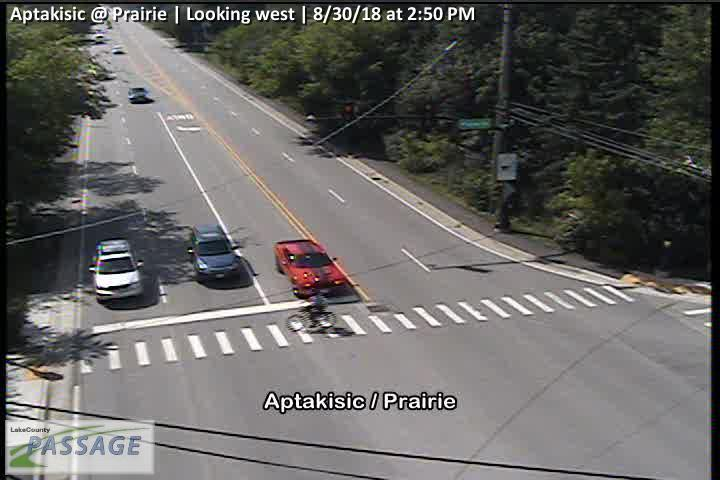Motorbike: (285, 290, 337, 332)
SUV: (89, 239, 144, 304), (187, 224, 242, 280), (95, 34, 104, 43)
Sedan: (273, 240, 348, 298), (128, 88, 150, 103), (112, 45, 126, 54)
